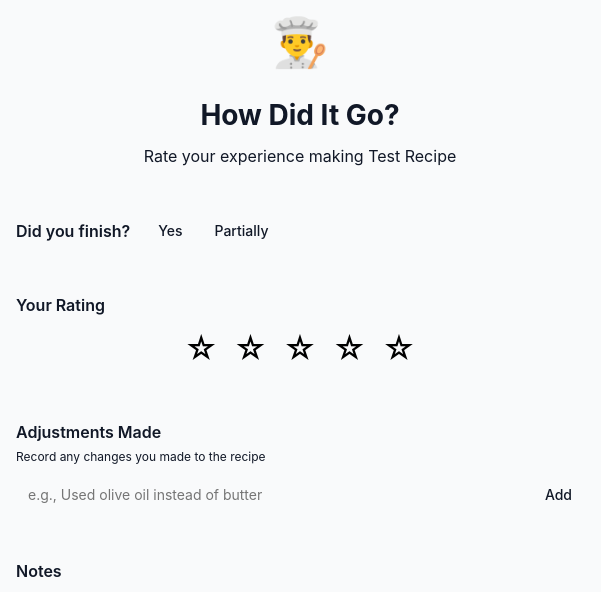
CookCompletion › can add an adjustment by clicking the Add button
The width and height of the screenshot is (601, 592).
Type "Used less salt" into the field with placeholder "e.g., Used olive oil instead of butter".
click(270, 494); type("Used less salt")  # box [16,478,525,511]
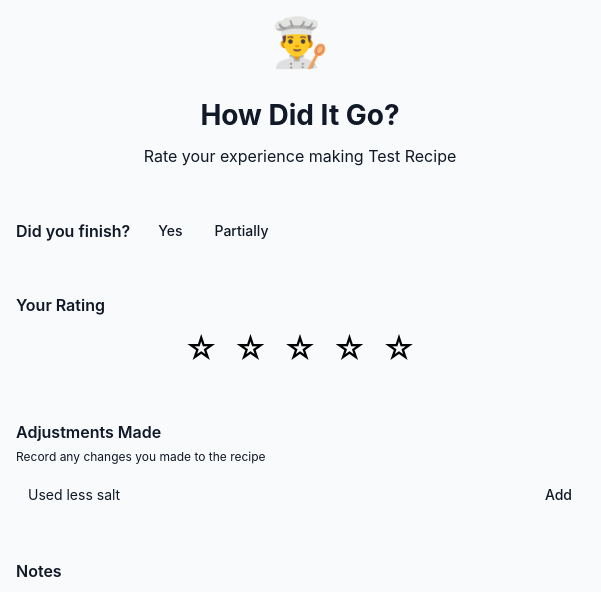
Click the button "Add".
click(558, 494)  # box [533,478,584,511]
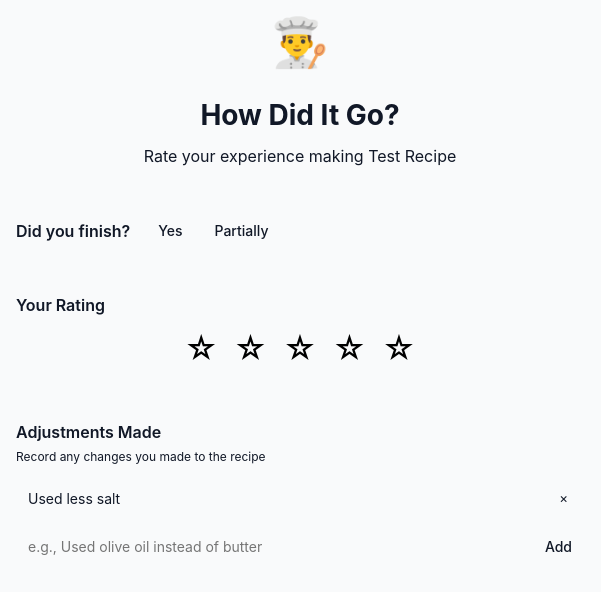
Result: the text "Used less salt" is shown at [28,488,120,508]
Result: the field with placeholder "e.g., Used olive oil instead of butter" is empty at [16,530,525,563]
